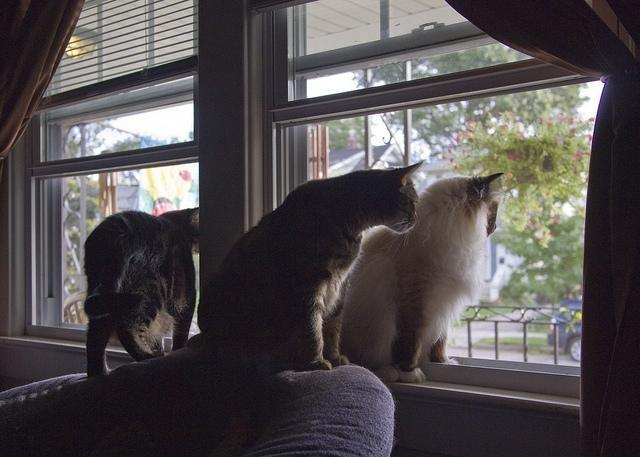car: (547, 298, 586, 366)
